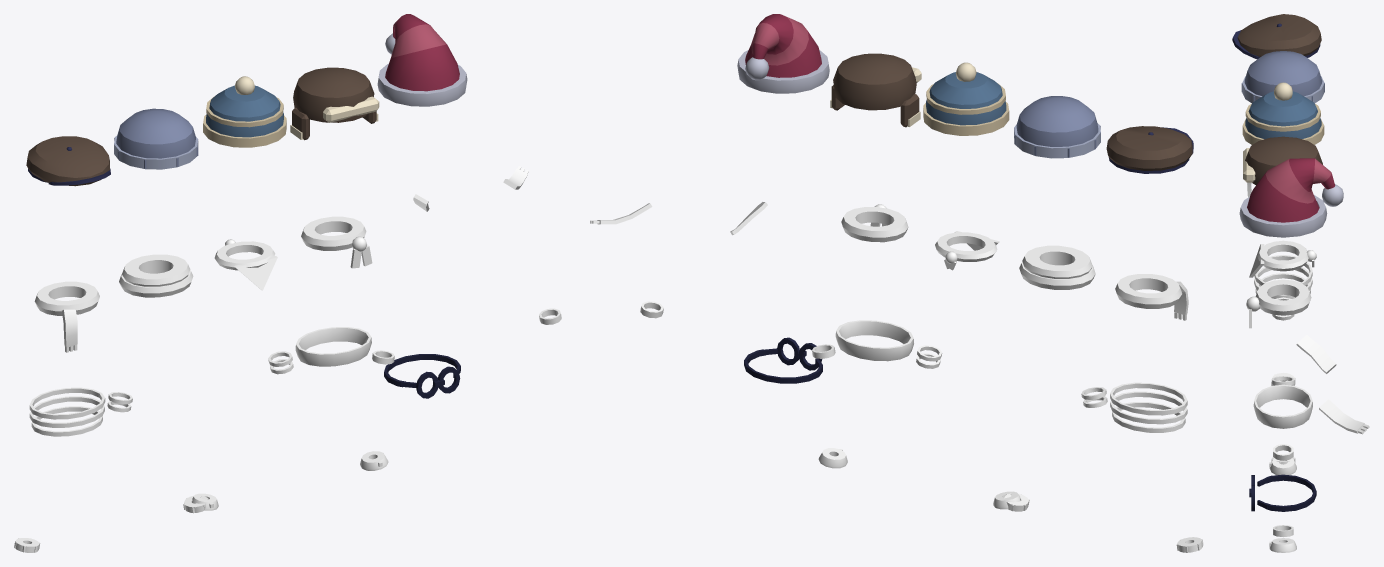
Rendered from Rookie_Outfits.fbx.
3 views of the same model, side by side, from view 1: azimuth 30°, elevation 25°; view 2: azimuth 150°, elevation 25°; view 3: azimuth 270°, elevation 25° (orthographic). The views are drawn at different scales.
Visible parts, largest first — view 1: Rookie_Cap_Santa, Rookie_Cap_Bobble, Rookie_Cap_Trapper, Rookie_Cap_Beanie, Rookie_Cap_Flat, Rookie_Scarf_Chunky, Rookie_Stripes_Torso, Rookie_Scarf_Long, Rookie_Scarf_Knot, Rookie_Block_Torso, Rookie_Scarf_Bandana, Rookie_Mask_Eye; view 2: Rookie_Cap_Santa, Rookie_Cap_Trapper, Rookie_Cap_Bobble, Rookie_Cap_Beanie, Rookie_Cap_Flat, Rookie_Scarf_Chunky, Rookie_Stripes_Torso, Rookie_Scarf_Long, Rookie_Block_Torso, Rookie_Scarf_Knot, Rookie_Mask_Eye, Rookie_Scarf_Bandana; view 3: Rookie_Cap_Santa, Rookie_Cap_Bobble, Rookie_Cap_Beanie, Rookie_Cap_Flat, Rookie_Cap_Trapper, Rookie_Scarf_Knot, Rookie_Block_Torso, Rookie_Scarf_Bandana, Rookie_Mask_Eye, Rookie_Stripes_Torso, Rookie_Scarf_Long_Tail2, Rookie_Scarf_Long_Tail1 (+5 smaller).
Part boxes in pixels (bbox=[...]): Rookie_Cap_Santa: bbox=[377, 14, 467, 106]; Rookie_Cap_Bobble: bbox=[203, 76, 286, 147]; Rookie_Cap_Trapper: bbox=[290, 67, 379, 140]; Rookie_Cap_Beanie: bbox=[114, 108, 198, 169]; Rookie_Cap_Flat: bbox=[26, 136, 110, 186]; Rookie_Scarf_Chunky: bbox=[119, 254, 193, 297]; Rookie_Stripes_Torso: bbox=[29, 387, 105, 436]; Rookie_Scarf_Long: bbox=[34, 281, 99, 352]; Rookie_Scarf_Knot: bbox=[301, 216, 372, 268]; Rookie_Block_Torso: bbox=[295, 327, 371, 366]; Rookie_Scarf_Bandana: bbox=[214, 239, 277, 290]; Rookie_Mask_Eye: bbox=[384, 354, 460, 398]; Rookie_Cap_Santa: bbox=[737, 14, 829, 93]; Rookie_Cap_Trapper: bbox=[830, 53, 921, 127]; Rookie_Cap_Bobble: bbox=[923, 62, 1009, 135]; Rookie_Cap_Beanie: bbox=[1014, 96, 1100, 158]; Rookie_Cap_Flat: bbox=[1106, 126, 1193, 173]; Rookie_Scarf_Chunky: bbox=[1019, 245, 1095, 289]; Rookie_Stripes_Torso: bbox=[1110, 382, 1187, 432]; Rookie_Scarf_Long: bbox=[1115, 274, 1188, 320]; Rookie_Block_Torso: bbox=[835, 320, 913, 361]; Rookie_Scarf_Knot: bbox=[841, 204, 908, 242]; Rookie_Mask_Eye: bbox=[744, 337, 822, 383]; Rookie_Scarf_Bandana: bbox=[935, 231, 999, 270]; Rookie_Cap_Santa: bbox=[1239, 158, 1343, 237]; Rookie_Cap_Bobble: bbox=[1242, 82, 1324, 144]; Rookie_Cap_Beanie: bbox=[1241, 51, 1324, 102]; Rookie_Cap_Flat: bbox=[1232, 14, 1321, 59]; Rookie_Cap_Trapper: bbox=[1243, 136, 1322, 184]; Rookie_Scarf_Knot: bbox=[1246, 279, 1311, 328]; Rookie_Block_Torso: bbox=[1253, 384, 1312, 428]; Rookie_Scarf_Bandana: bbox=[1249, 240, 1316, 277]; Rookie_Mask_Eye: bbox=[1249, 474, 1316, 511]; Rookie_Stripes_Torso: bbox=[1254, 255, 1312, 298]; Rookie_Scarf_Long_Tail2: bbox=[1319, 399, 1369, 434]; Rookie_Scarf_Long_Tail1: bbox=[1296, 335, 1336, 373].
Bounding box in the file's own units: 16.21 × 11.98 × 3.61.
1 material, 1 textured.
